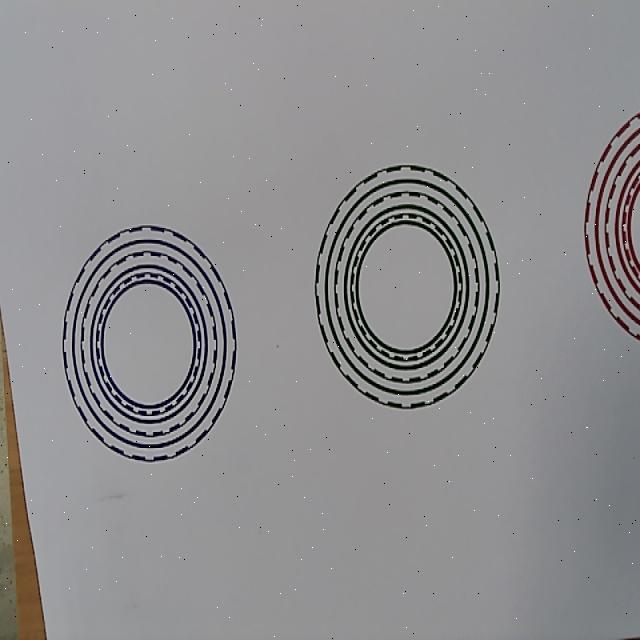b: (60, 225, 237, 464)
g: (314, 164, 501, 409)
